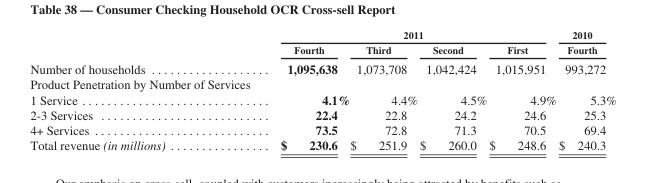table: (29, 28, 615, 151)
table column: (29, 28, 222, 151), (222, 28, 349, 151), (417, 28, 487, 151), (487, 28, 556, 151), (349, 28, 417, 151), (556, 28, 615, 151)
table column header: (29, 28, 615, 58)
table projected row header: (29, 76, 615, 91)
table row: (29, 58, 615, 76), (29, 41, 615, 58), (29, 121, 615, 137), (29, 76, 615, 91), (29, 91, 615, 106), (29, 106, 615, 121), (29, 137, 615, 151), (29, 28, 615, 41)
table spanning cell: (222, 28, 556, 41), (556, 28, 615, 58)
